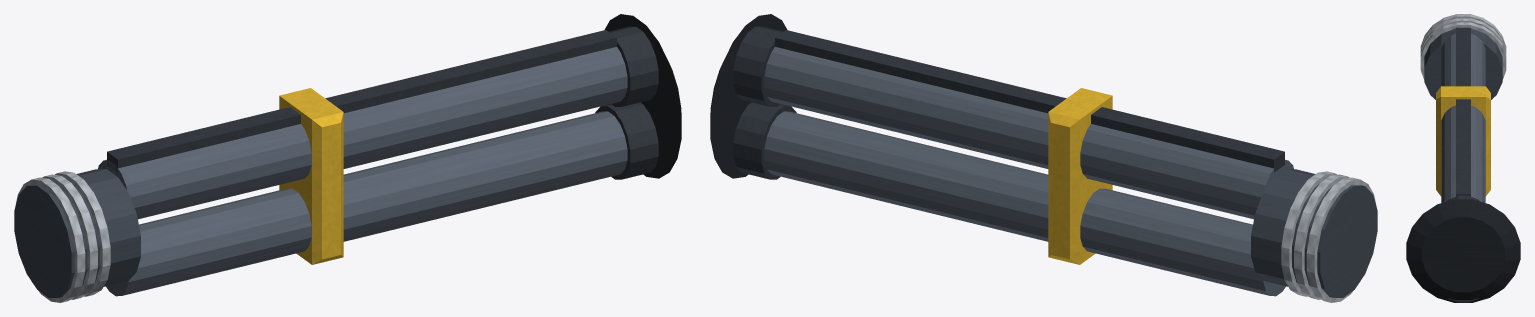
Rendered from barrel_twin_v2.glb.
The picture shows the model from 3 angles, left to right: view 1: azimuth 30°, elevation 25°; view 2: azimuth 150°, elevation 25°; view 3: azimuth 270°, elevation 25°; orthographic projection. The views are drawn at different scales.
Parts seen in each view (by area): view 1: barrel_twin_mesh; view 2: barrel_twin_mesh; view 3: barrel_twin_mesh.
Boxes of the visible parts, <box> form: barrel_twin_mesh: <box>14,14,681,302</box>; barrel_twin_mesh: <box>710,14,1377,302</box>; barrel_twin_mesh: <box>1406,14,1520,302</box>.
Bounding box in the file's own units: 0.1925 × 0.0458 × 0.0458.
Materials: 6 (6 with a texture image).
